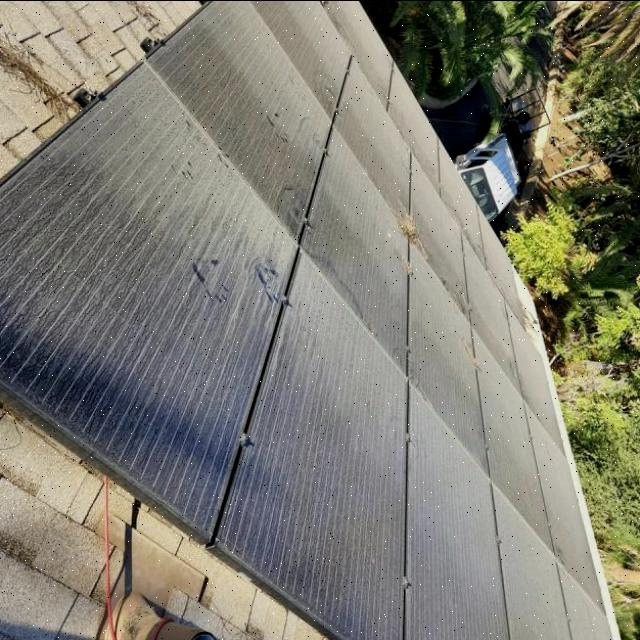Anomaly Solar Panel: (0, 60, 612, 640), (148, 0, 606, 610), (251, 3, 560, 443)
Surface Contaminant: (0, 60, 615, 640), (148, 0, 604, 597), (245, 1, 564, 441)
